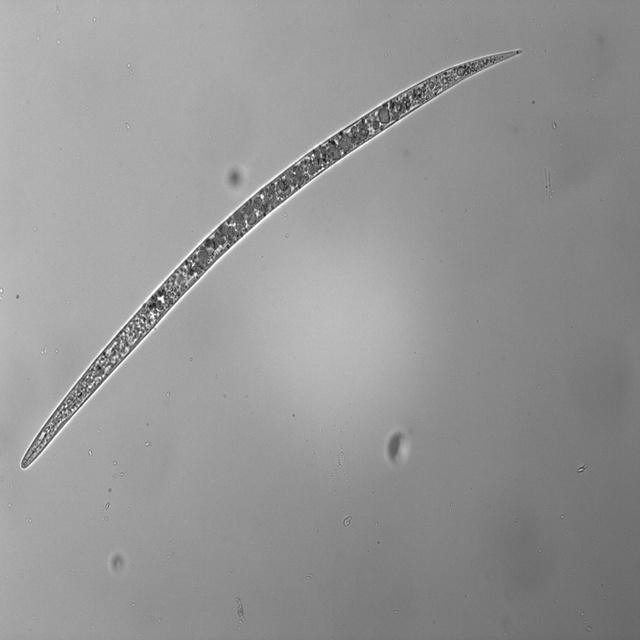Meloidogyne: (20, 41, 535, 479)
